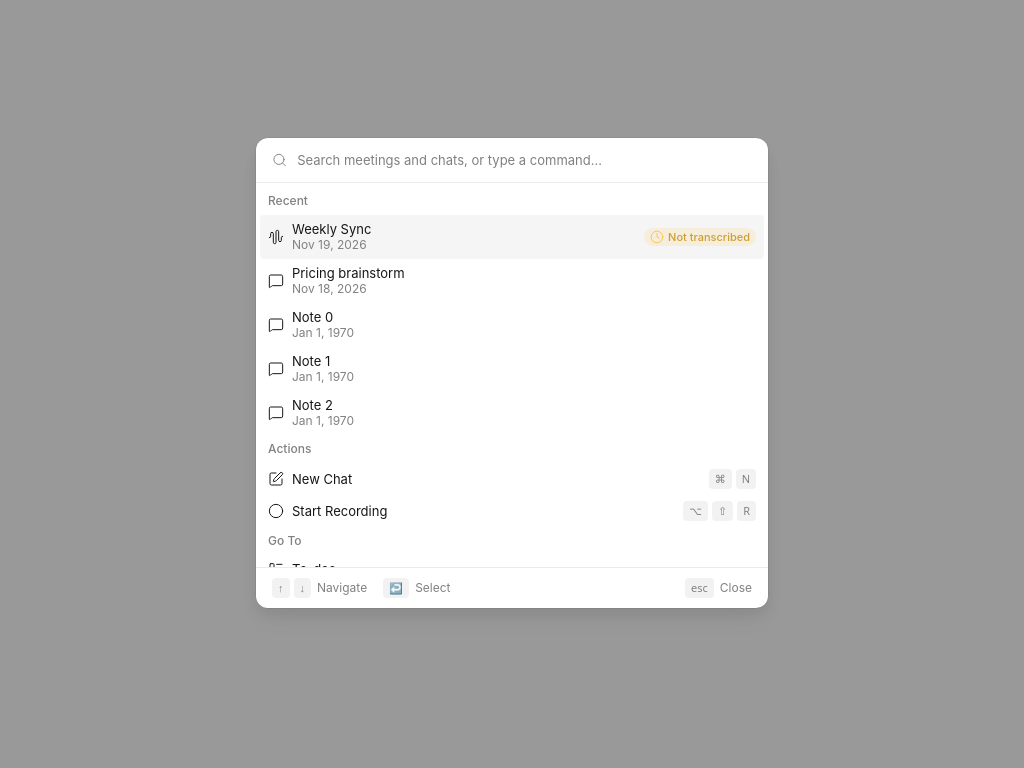
Test: CommandPalette › while typing: results lead, then the matching commands; recents give way
In the dropdown: [525, 160] box [297, 138, 752, 182], type "pricing"
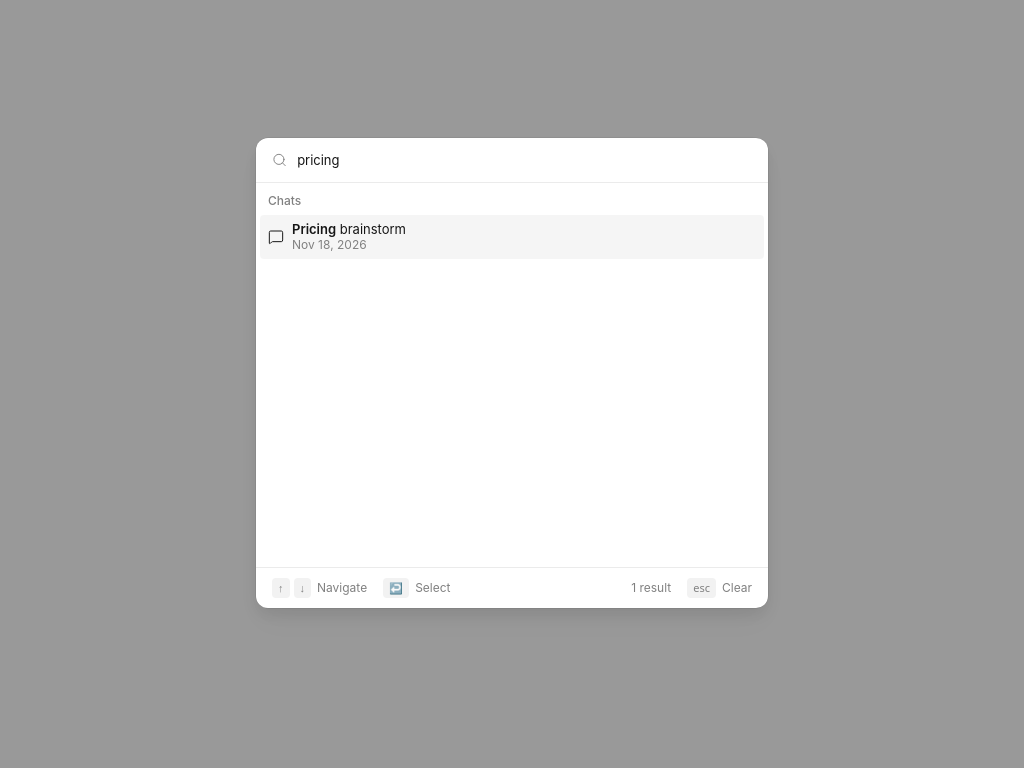
Expected: the text "Chats" is shown, [268, 193, 301, 208]
